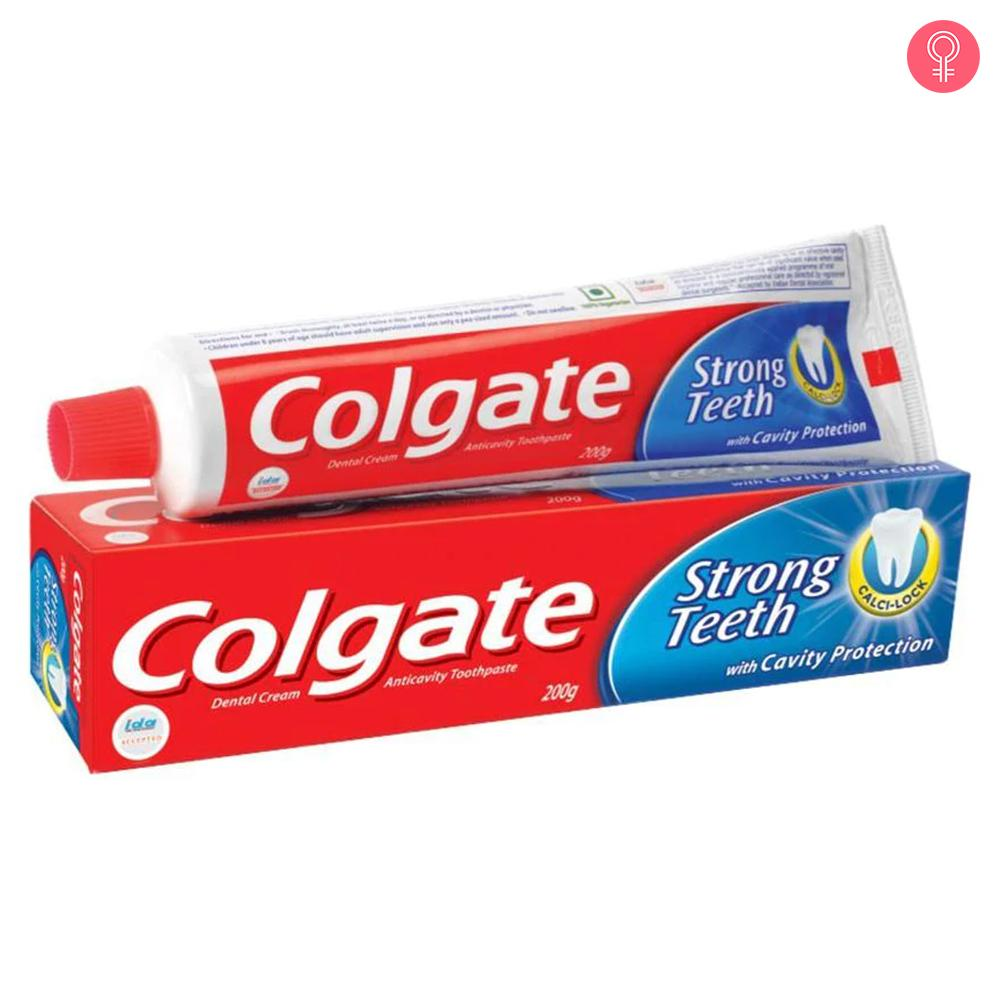toothpaste: (16, 439, 993, 782), (32, 205, 985, 527)
